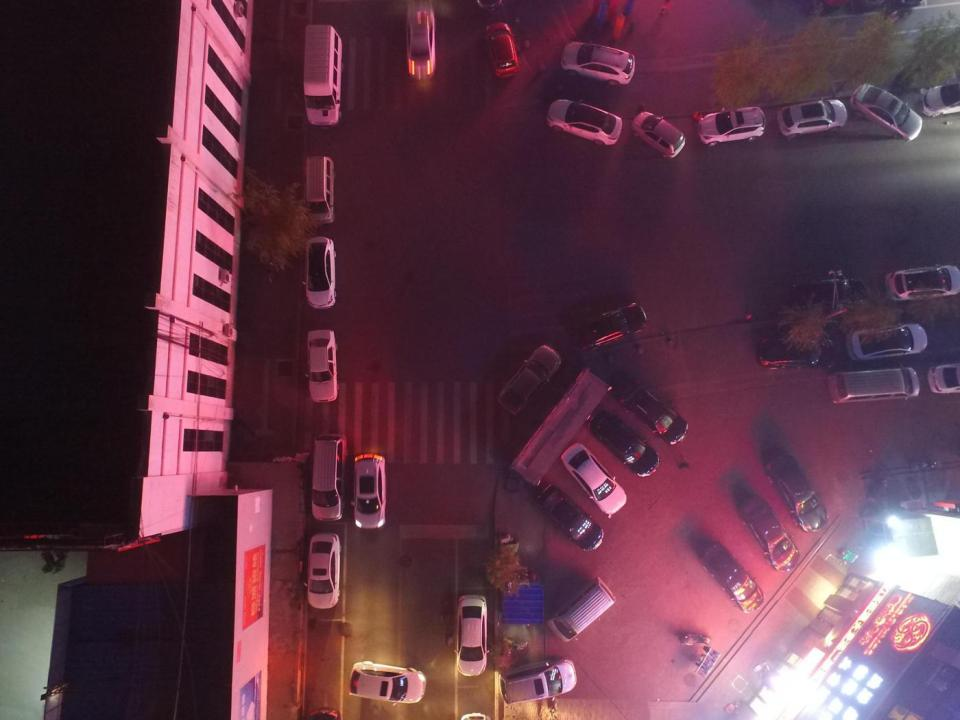car: (763, 454, 829, 532), (587, 408, 660, 478), (560, 441, 626, 514), (700, 540, 764, 613), (739, 496, 800, 571), (536, 484, 604, 551), (495, 345, 561, 414), (621, 380, 689, 444), (850, 84, 922, 140), (571, 302, 646, 350), (498, 658, 576, 704), (546, 98, 622, 145), (349, 661, 425, 706), (560, 41, 635, 84), (847, 323, 928, 360), (778, 96, 846, 140), (791, 278, 868, 316), (455, 594, 489, 678), (886, 264, 960, 302), (304, 531, 340, 609), (350, 453, 387, 528), (304, 328, 340, 404), (698, 107, 766, 146), (757, 336, 833, 370), (301, 236, 336, 308), (632, 112, 685, 158), (486, 22, 518, 78), (921, 84, 960, 116), (926, 364, 960, 393)
van: (548, 576, 614, 642), (302, 24, 342, 127), (828, 368, 919, 403), (311, 434, 345, 521), (304, 156, 334, 224)
